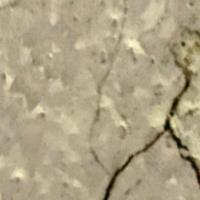crack: (98, 54, 199, 199)
